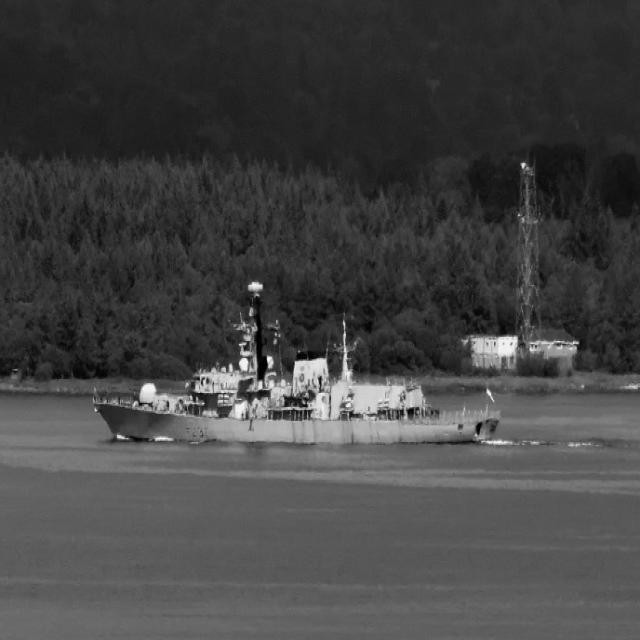Fragata: (92, 276, 503, 452)
